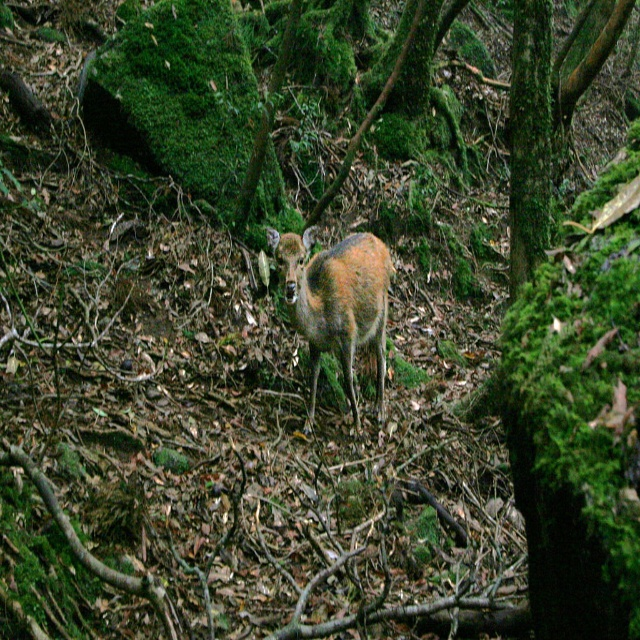Deer: (269, 225, 393, 440)
